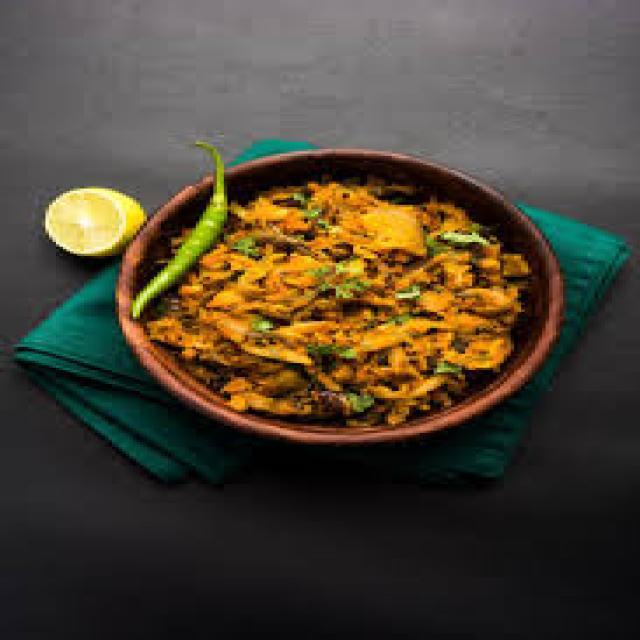POHA: (140, 179, 521, 419)
